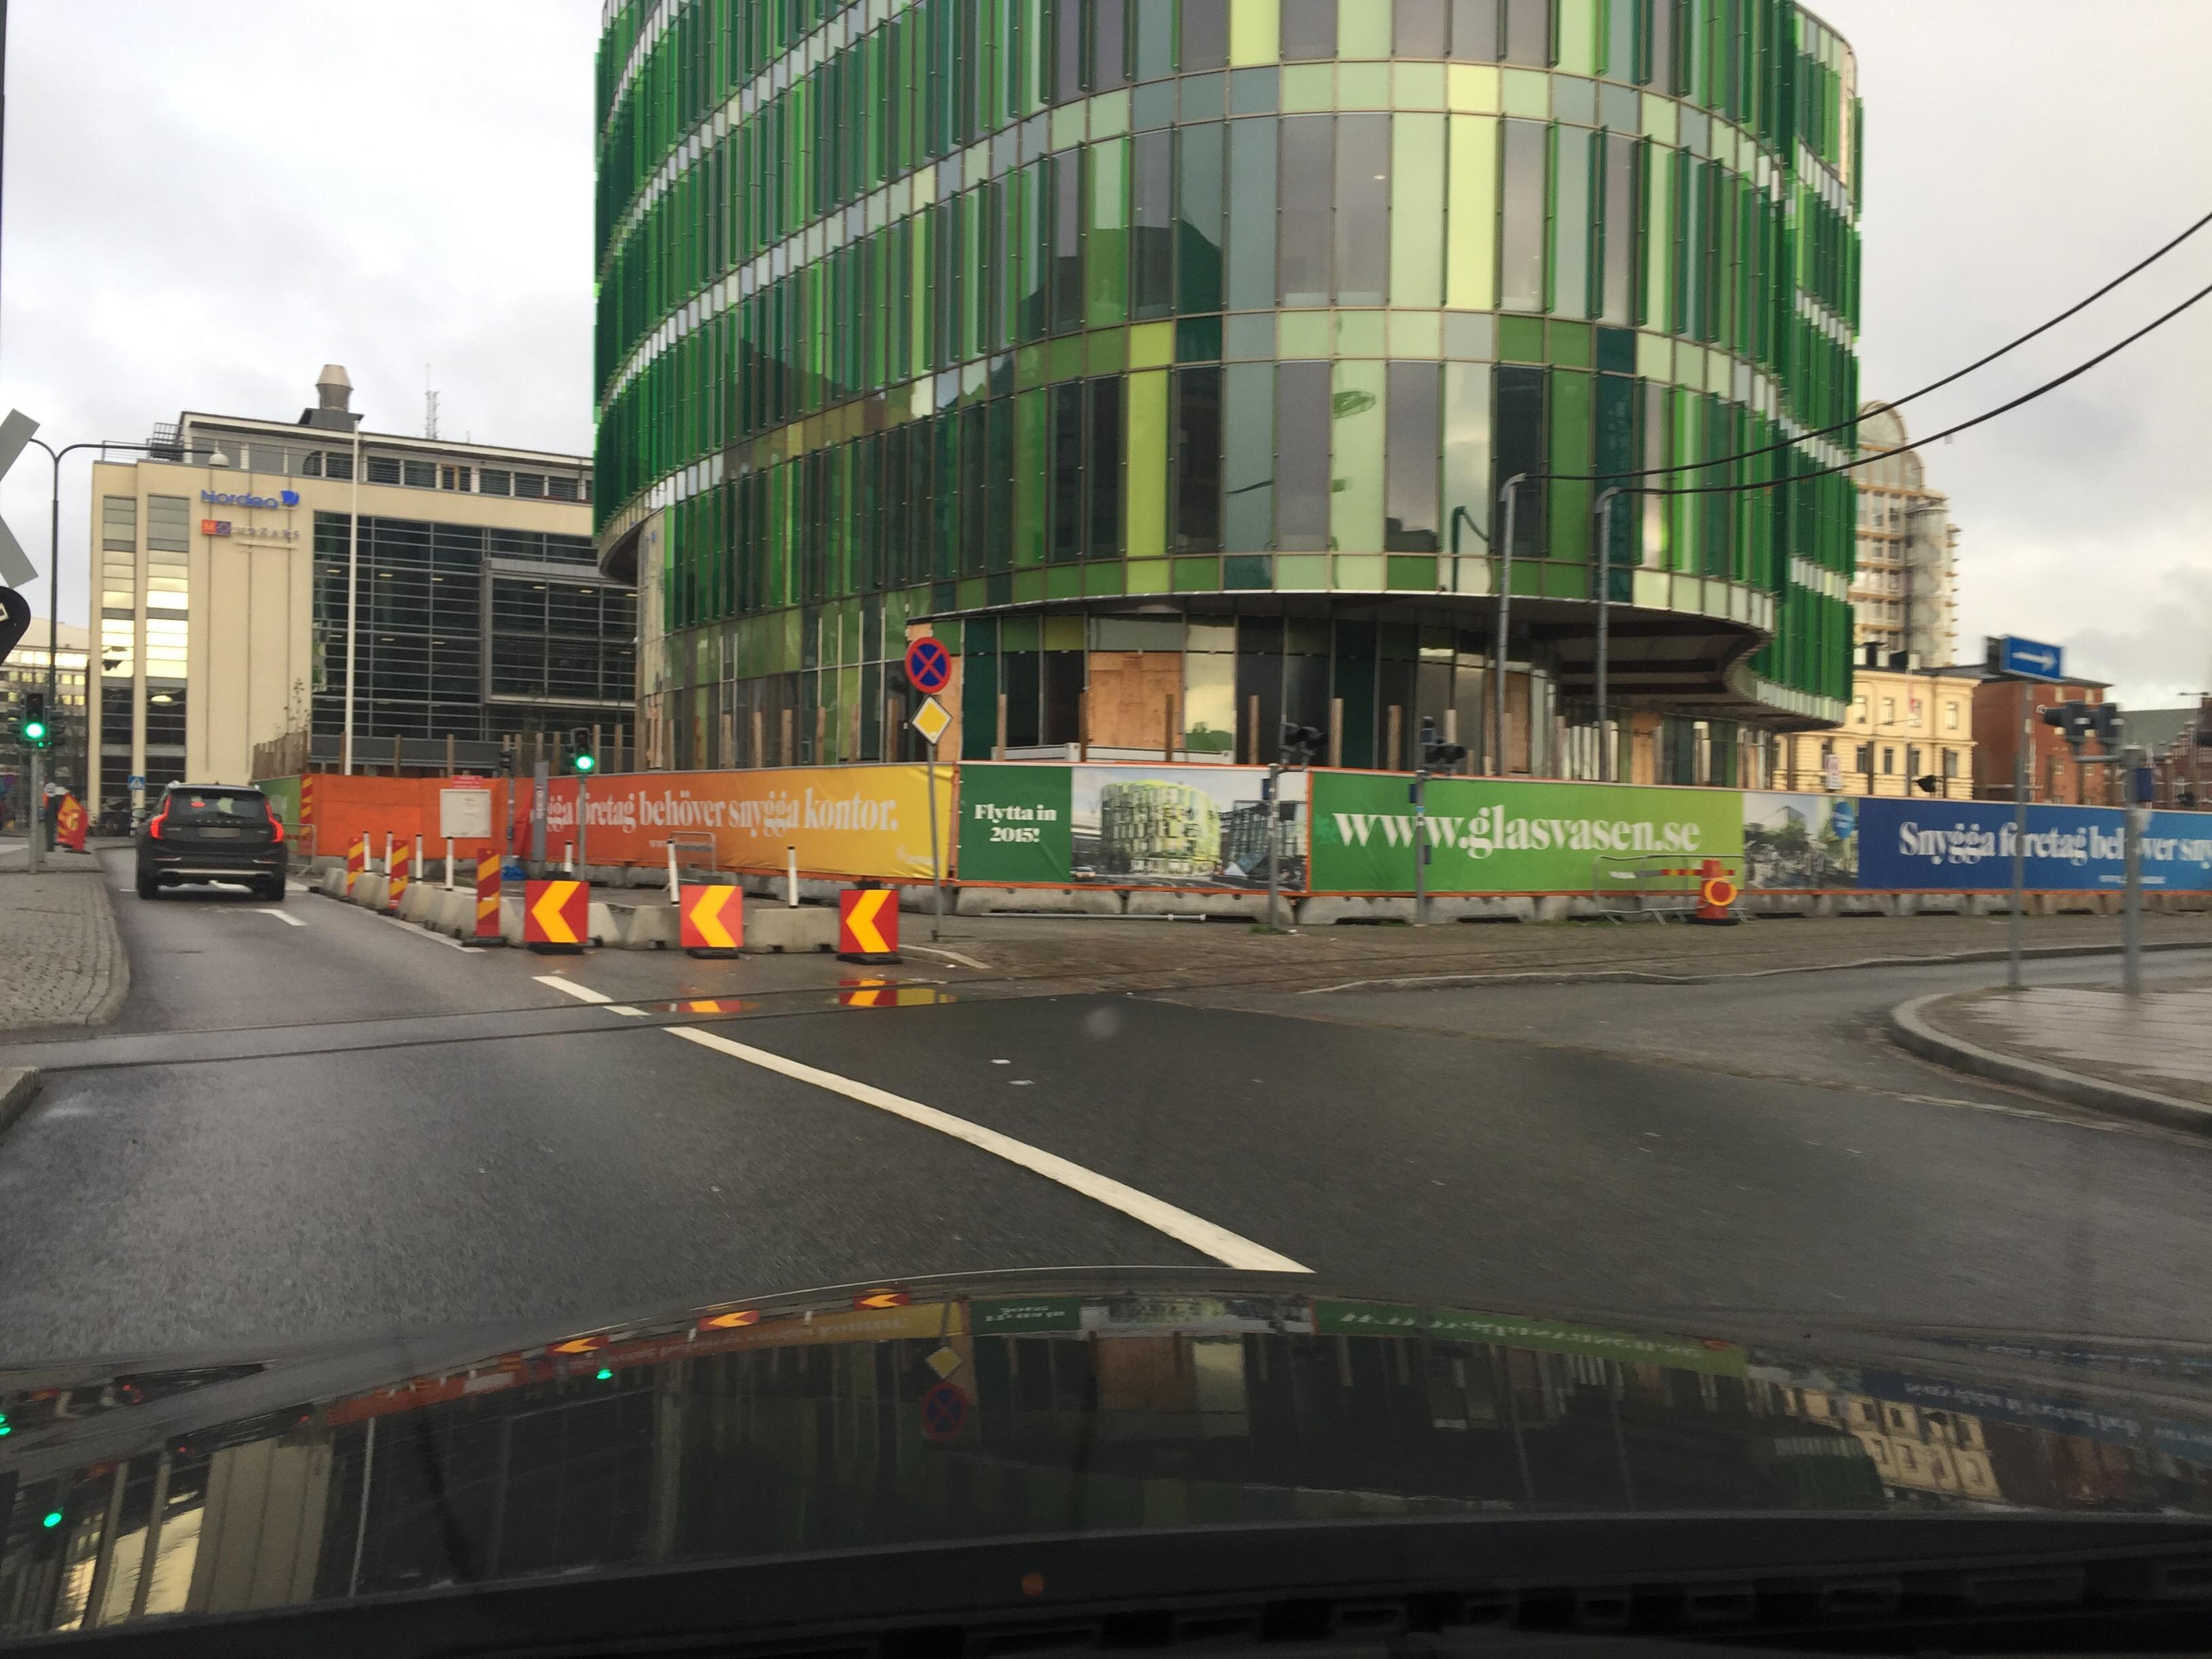vinyl banner: (1317, 769, 2212, 915), (954, 746, 1310, 903), (521, 760, 956, 884)
